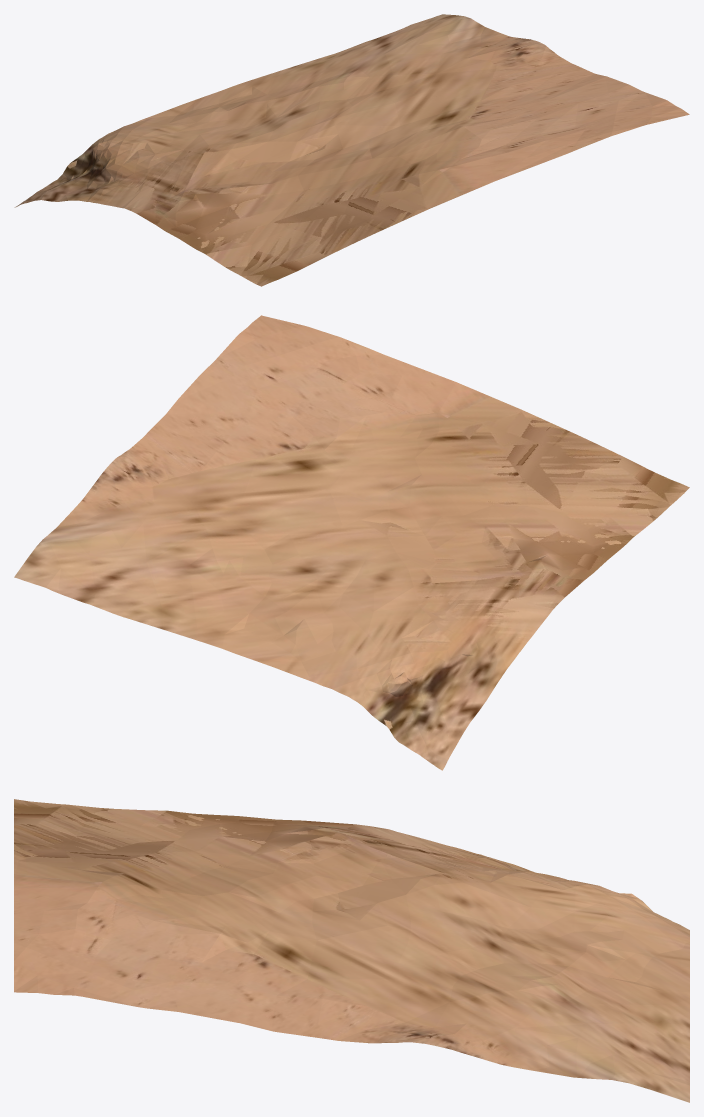
3 renders of one model, top to bottom at view 1: azimuth 30°, elevation 25°; view 2: azimuth 150°, elevation 25°; view 3: azimuth 270°, elevation 25°, orthographic. The views are drawn at different scales.
Bounding box in the file's own units: 1.04 × 0.3957 × 1.04.
2 materials, 2 textured.
